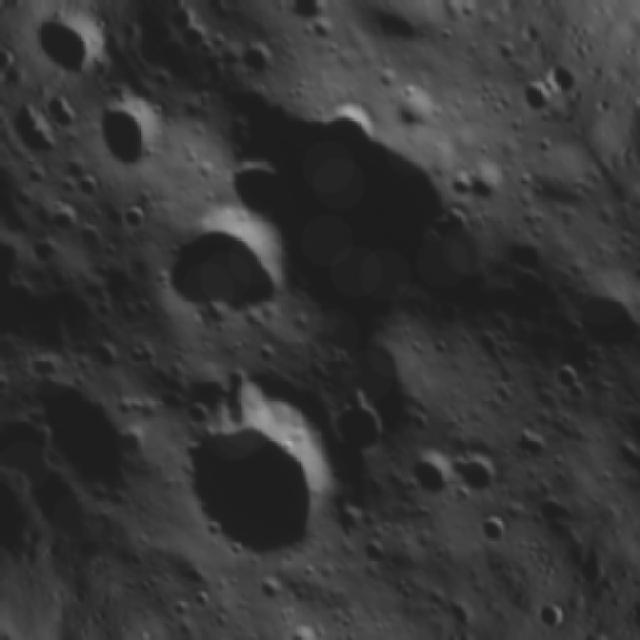crater: (138, 361, 360, 593), (125, 175, 309, 363), (541, 262, 640, 383), (79, 82, 184, 187), (321, 387, 407, 476), (374, 73, 454, 152), (434, 144, 511, 222), (392, 440, 458, 508), (445, 440, 507, 503), (270, 0, 347, 38), (228, 33, 282, 87), (461, 504, 514, 558), (511, 72, 558, 122), (109, 192, 157, 240), (26, 230, 66, 272), (44, 197, 84, 237), (73, 217, 110, 254), (68, 167, 104, 205)
